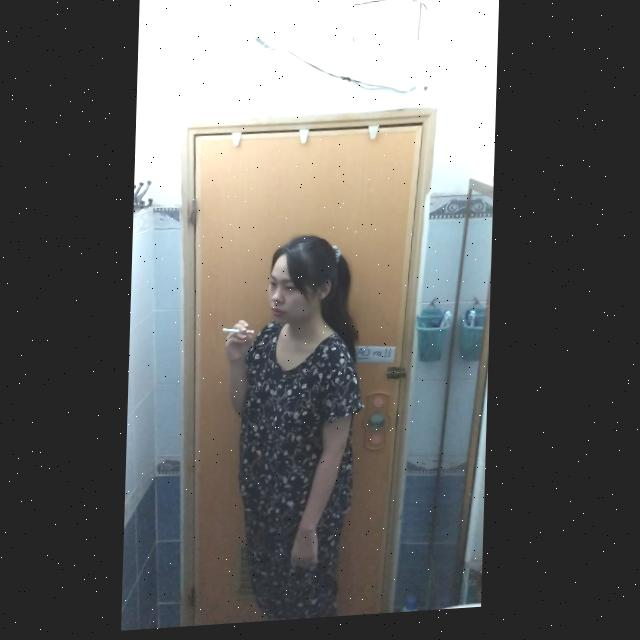cigarette: (225, 329, 257, 339)
